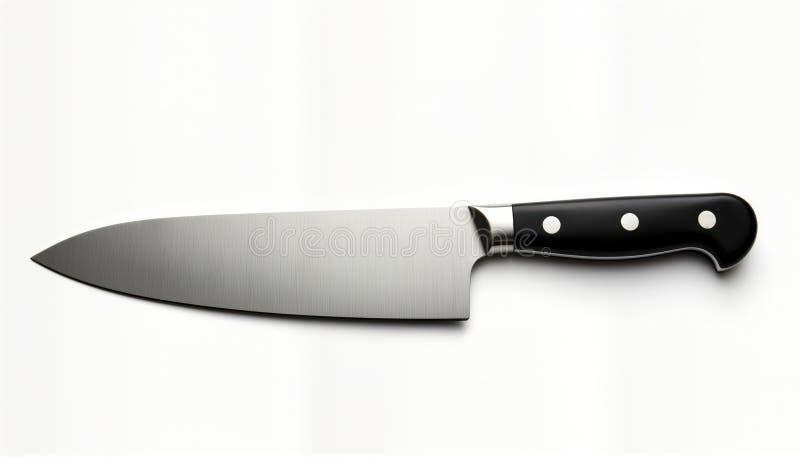Knife: (29, 190, 757, 322)
